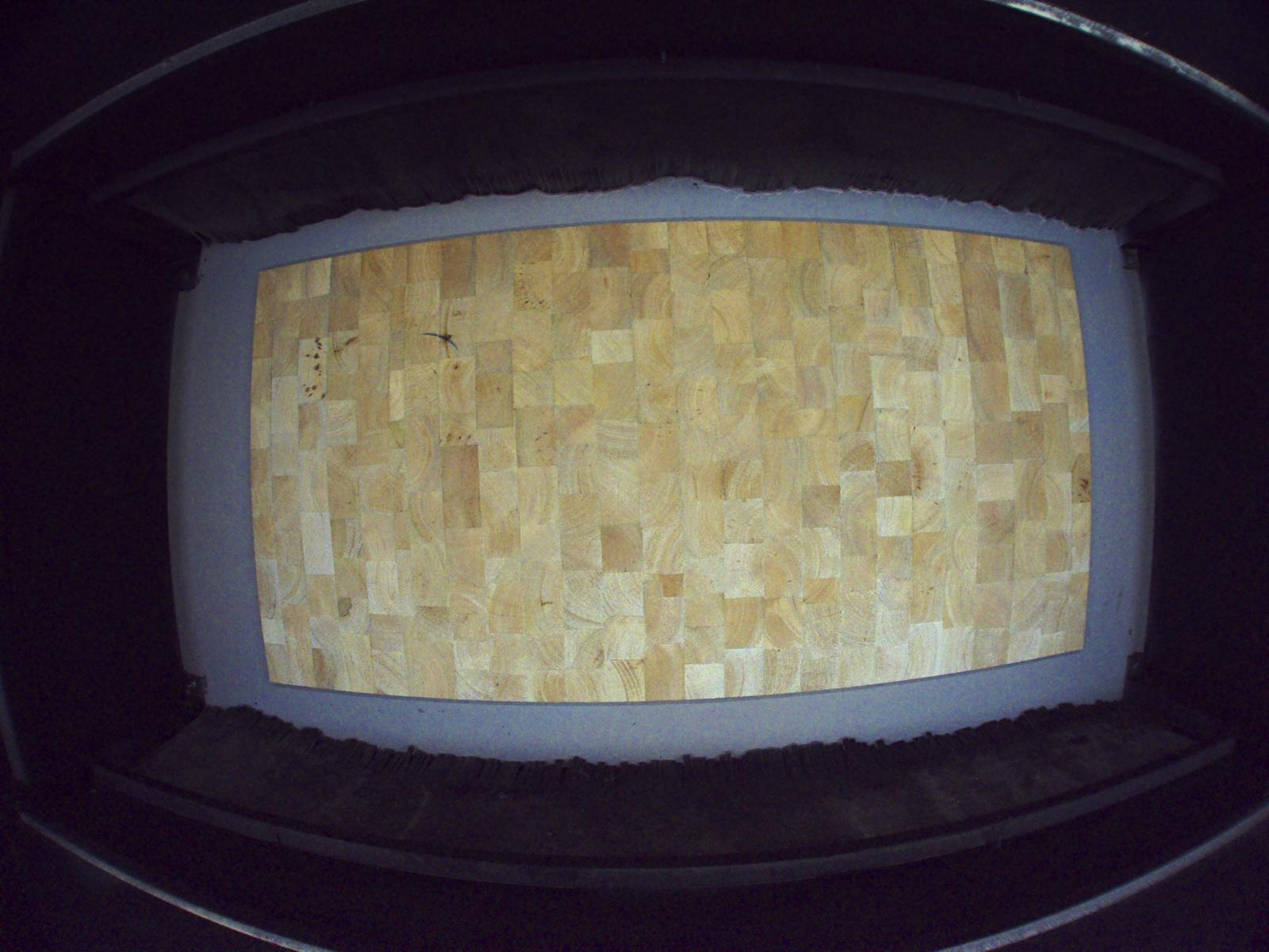sheck_ecuatoriano: (440, 296, 456, 360), (538, 570, 555, 623)
